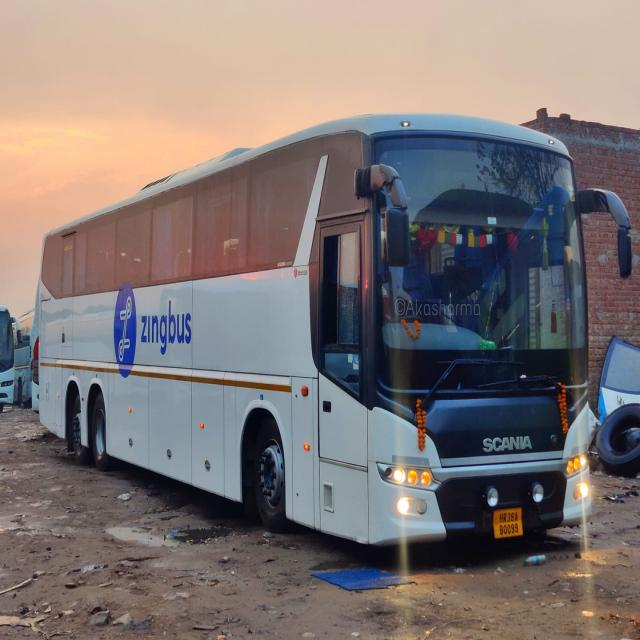bus: (36, 115, 631, 544)
